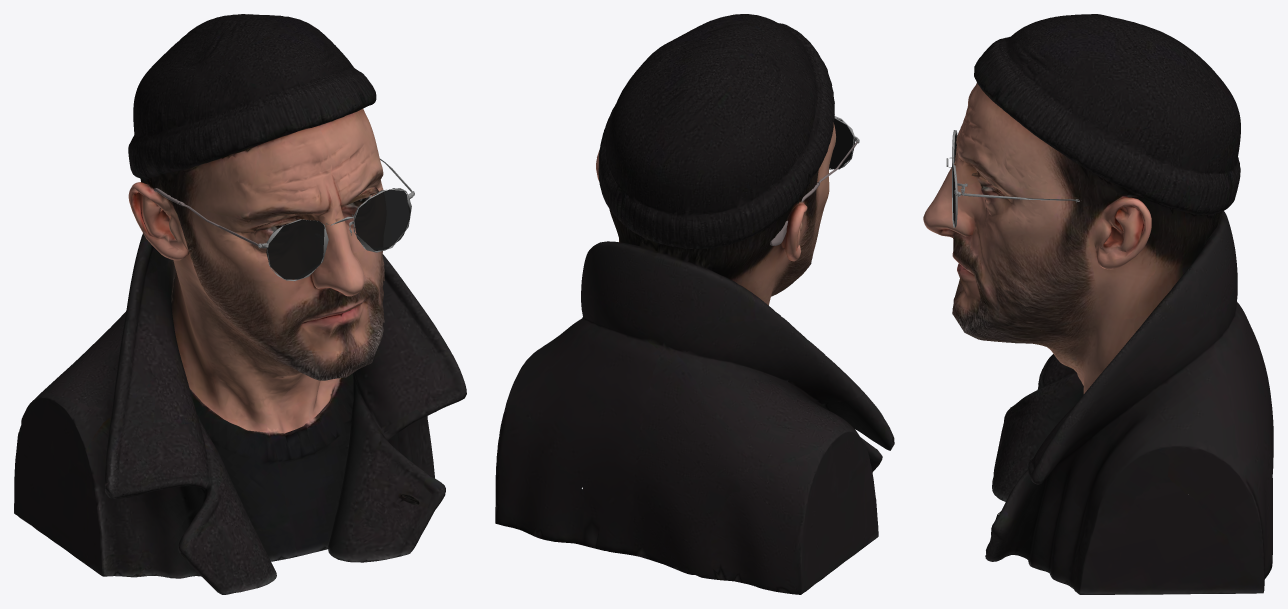
File: oprofissional.glb
3 renders of one model, left to right at view 1: azimuth 30°, elevation 25°; view 2: azimuth 150°, elevation 25°; view 3: azimuth 270°, elevation 25°, orthographic. The views are drawn at different scales.
Parts seen in each view (by area): view 1: Object_20, Object_7, Object_5; view 2: Object_20, Object_7; view 3: Object_20, Object_5.
Boxes of the visible parts, x1,y1,x2,y2 form: Object_20: (14,14,466,594); Object_7: (266,188,410,279); Object_5: (258,158,414,281); Object_20: (495,14,894,594); Object_7: (829,118,854,169); Object_20: (923,14,1273,594); Object_5: (946,130,1079,227).
Bounding box in the file's own units: 0.6962 × 0.9906 × 0.6357.
5 materials, 2 textured.
